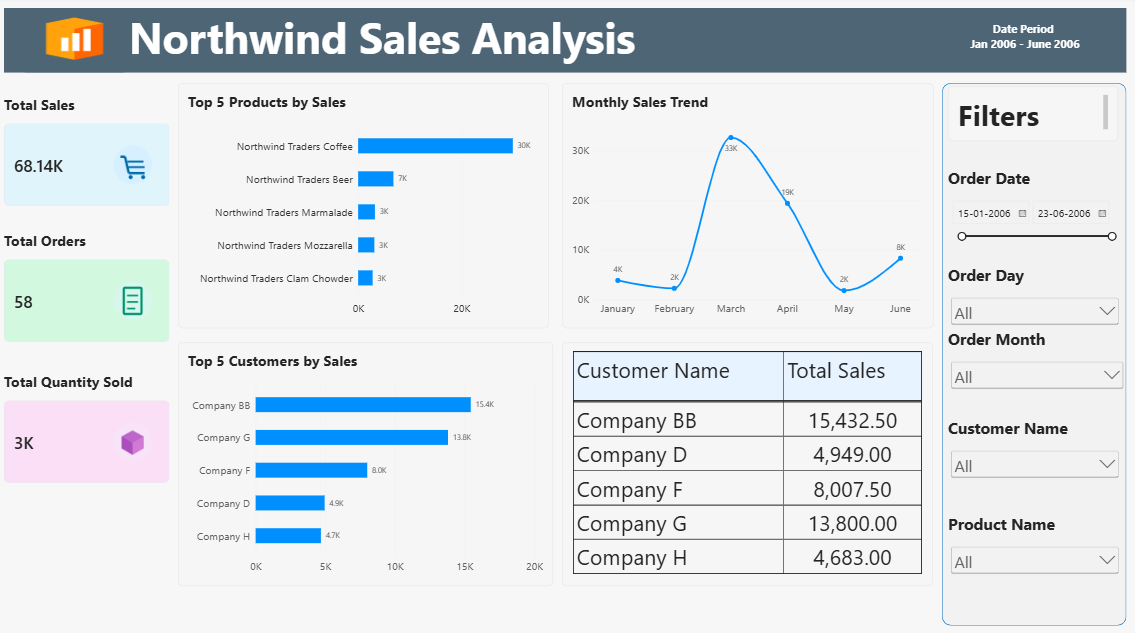

This screenshot's page, from the dashboard's own definition file:
{"tool":"powerbi","page":{"name":"Sales Analysis Dashboard","canvas":[1920,1080],"ordinal":0},"visuals":[{"type":"cardVisual","title":"Total Sales","fields":{"Data":["Sum(Northwind_Sales_Analysis.sales_amount)"]},"box":[10,91.7,279.1,187.4],"z":0},{"type":"cardVisual","title":"Total Orders","fields":{"Data":["CountNonNull(Northwind_Sales_Analysis.order_id)"]},"box":[10,325.5,279,187],"z":1},{"type":"cardVisual","title":"Total Quantity Sold","fields":{"Data":["Sum(Northwind_Sales_Analysis.quantity)"]},"box":[10,559.5,279,187],"z":2},{"type":"clusteredBarChart","title":"Top 5 Products by Sales","fields":{"Category":["Northwind_Sales_Analysis.product_name"],"Y":["Sum(Northwind_Sales_Analysis.sales_amount)"]},"box":[309.4,34.4,633.5,385.5],"z":3},{"type":"lineChart","title":"Monthly Sales Trend","fields":{"Category":["Northwind_Sales_Analysis.order_date.Variation.Date Hierarchy.Month"],"Y":["Sum(Northwind_Sales_Analysis.sales_amount)"]},"box":[952,34,633,385],"z":4},{"type":"clusteredBarChart","title":"Top 5 Customers by Sales","fields":{"Category":["Northwind_Sales_Analysis.customer_name"],"Y":["Sum(Northwind_Sales_Analysis.sales_amount)"]},"box":[309.4,459.1,633.5,385.5],"z":5},{"type":"slicer","title":"Order Date  ","fields":{"Values":["Northwind_Sales_Analysis.order_date"]},"box":[1193.2,459.1,325,385],"z":6}]}

Visuals, with their boxes in screenshot pixels (x1, y1, x2, y2), scaled from the page's 1920x1080 canvas onto the 1135x633 screenshot:
"Total Sales" cardVisual: {"x1": 6, "y1": 54, "x2": 171, "y2": 164}
"Total Orders" cardVisual: {"x1": 6, "y1": 191, "x2": 171, "y2": 300}
"Total Quantity Sold" cardVisual: {"x1": 6, "y1": 328, "x2": 171, "y2": 438}
"Top 5 Products by Sales" clusteredBarChart: {"x1": 183, "y1": 20, "x2": 557, "y2": 246}
"Monthly Sales Trend" lineChart: {"x1": 563, "y1": 20, "x2": 937, "y2": 246}
"Top 5 Customers by Sales" clusteredBarChart: {"x1": 183, "y1": 269, "x2": 557, "y2": 495}
"Order Date  " slicer: {"x1": 705, "y1": 269, "x2": 897, "y2": 495}
